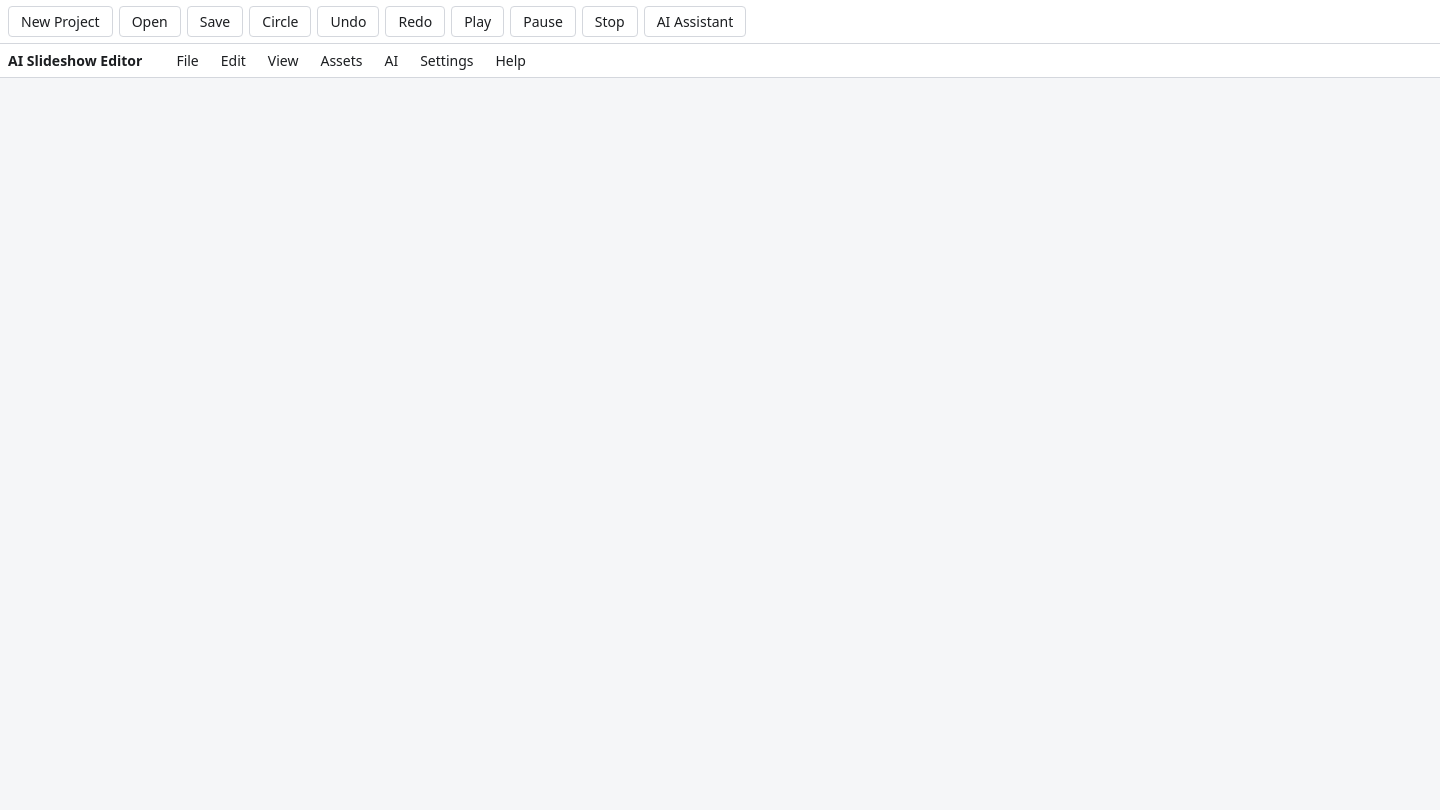
Test: ProjectsDialog › opens from the File menu Open item
The width and height of the screenshot is (1440, 810).
Click the button "File" at (188, 60), box [166, 48, 209, 73]
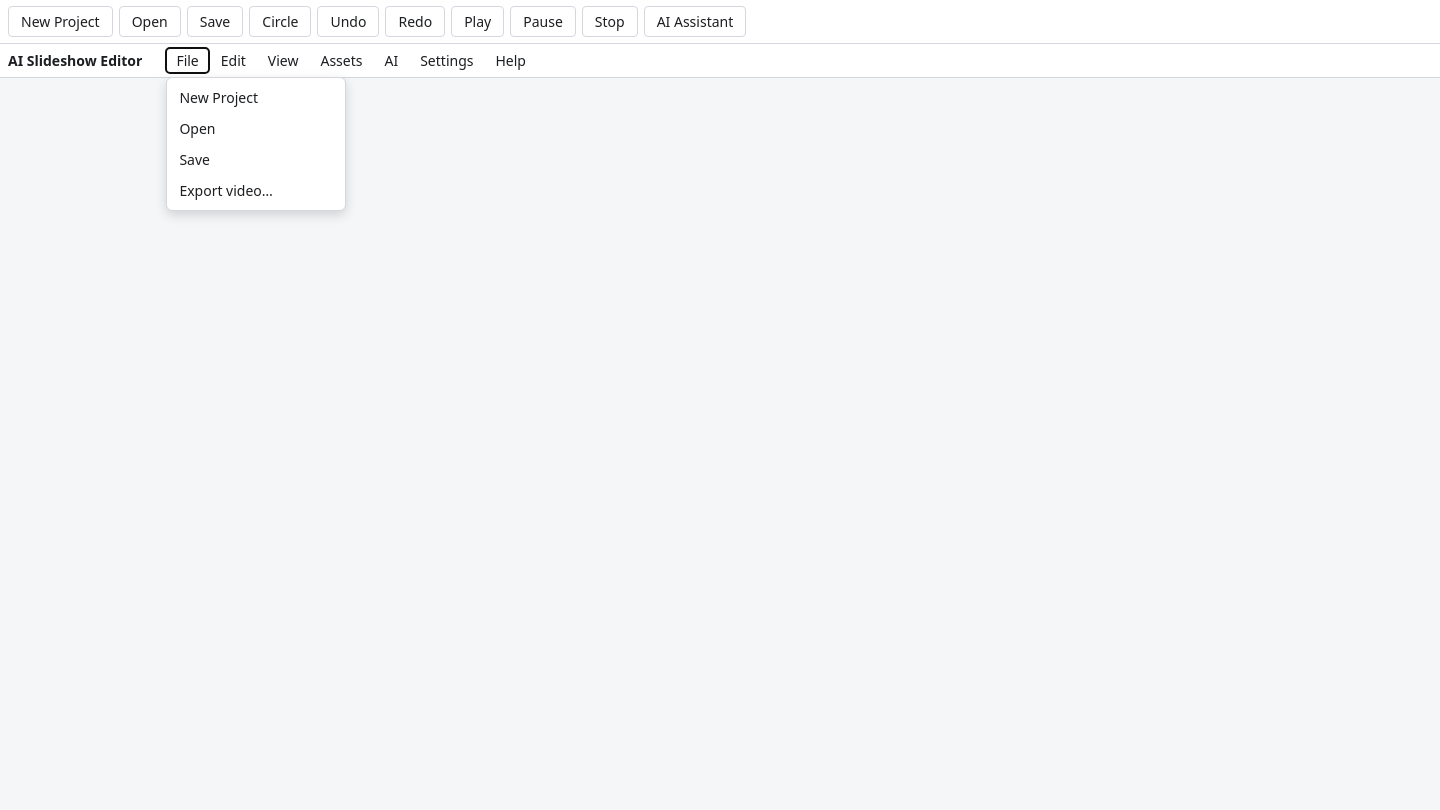
Click the menu item "Open" at (256, 128), box [167, 113, 345, 144]
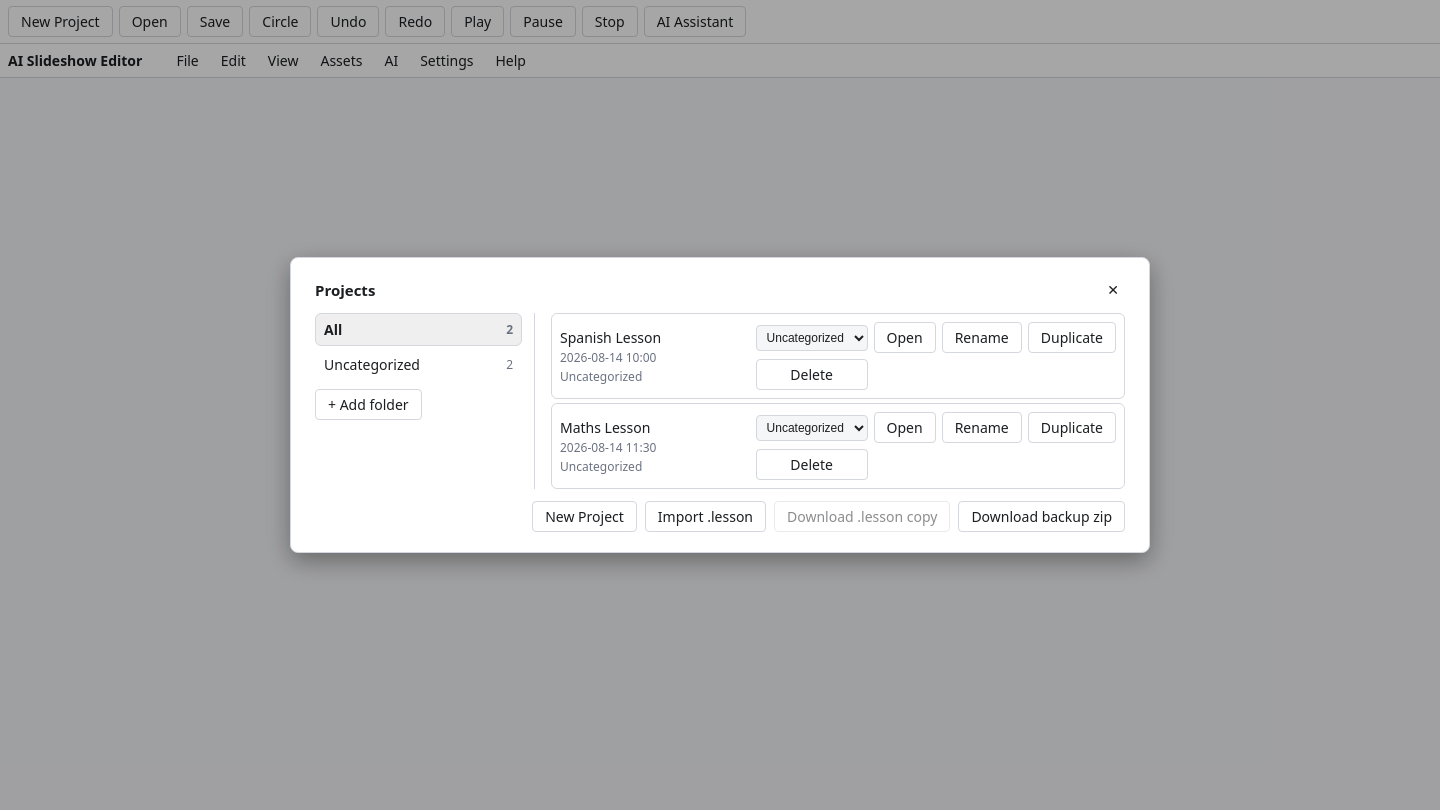
Now the text "Spanish Lesson" is shown, box [560, 328, 661, 346]
